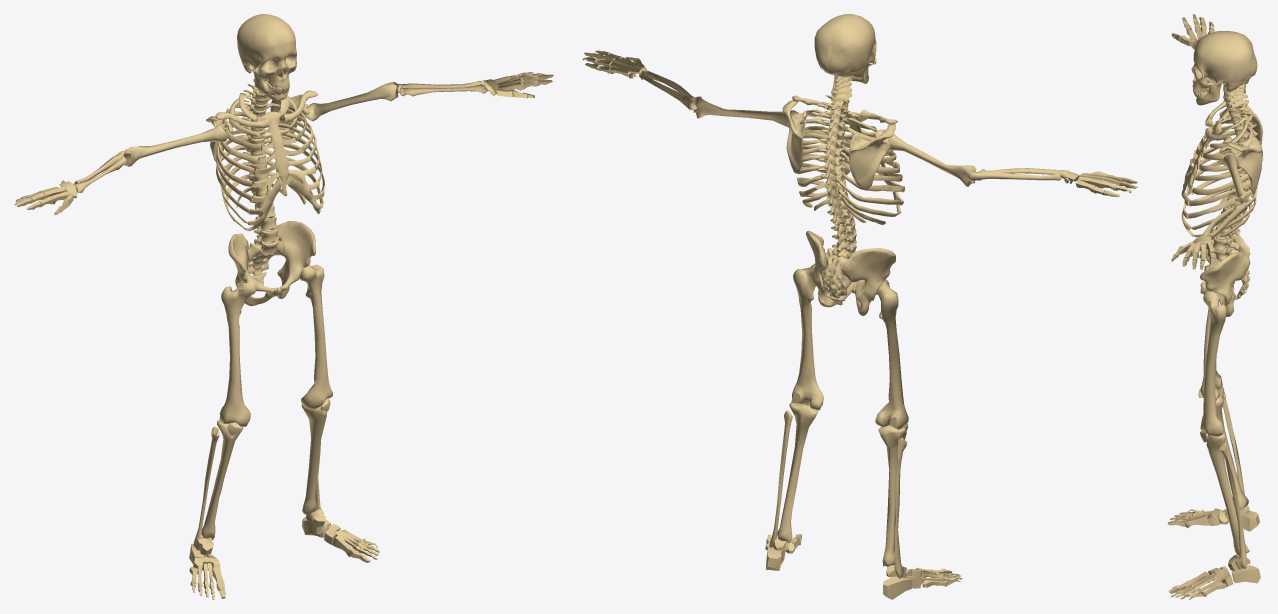
Rendered from esquelet_unit.FBX.
3 renders of one model, left to right at view 1: azimuth 30°, elevation 25°; view 2: azimuth 150°, elevation 25°; view 3: azimuth 270°, elevation 25°, orthographic. The views are drawn at different scales.
Parts seen in each view (by area): view 1: sub004; view 2: sub004; view 3: sub004.
Boxes of the visible parts, x1,y1,x2,y2 form: sub004: (14,14,553,599); sub004: (582,14,1138,599); sub004: (1167,14,1263,599).
Size of the model in its own units: 5480 by 5284 by 876.
